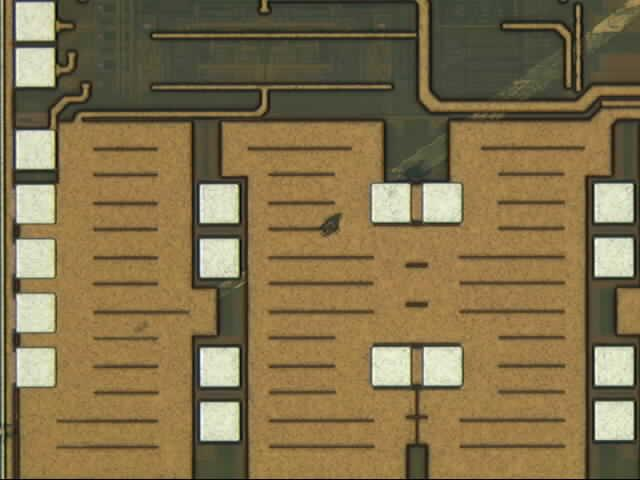SCRATCH: (119, 1, 640, 339)
